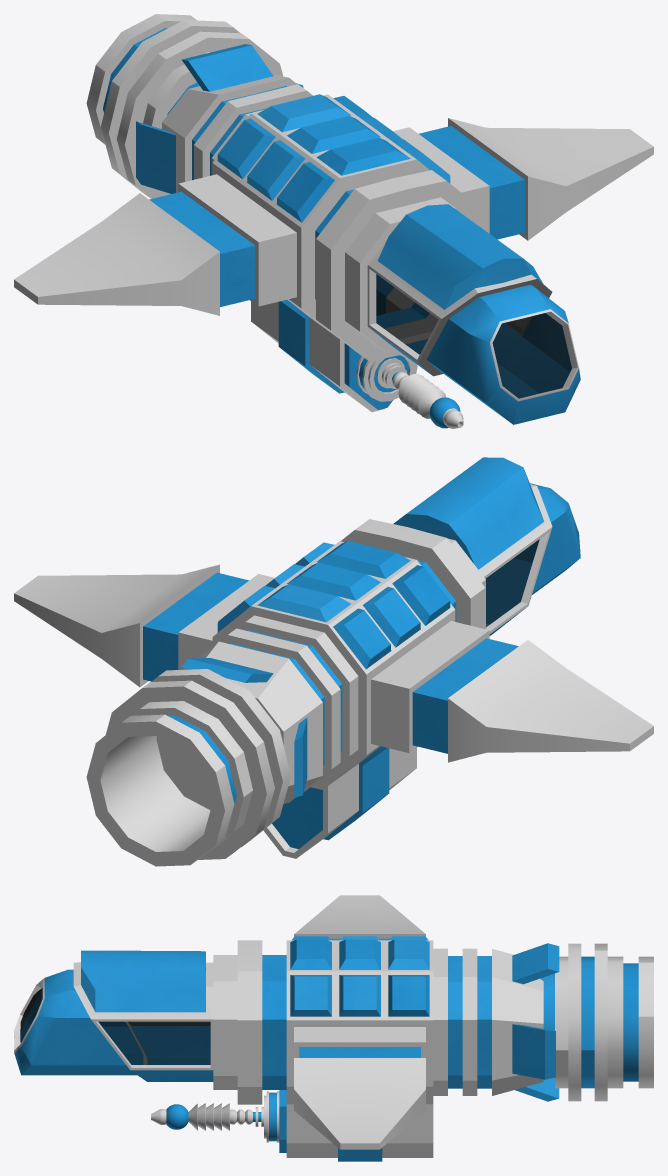
Rendered from BAE.fbx.
3 renders of one model, top to bottom at view 1: azimuth 30°, elevation 25°; view 2: azimuth 150°, elevation 25°; view 3: azimuth 270°, elevation 25°, orthographic. The views are drawn at different scales.
Visible parts, largest first — view 1: BAE; view 2: BAE; view 3: BAE.
Part boxes in pixels (x1,y1,x2,y2): BAE: (14,14,653,428); BAE: (14,457,653,866); BAE: (14,895,653,1161).
Bounding box in the file's own units: 8 × 3.15 × 8.73.
